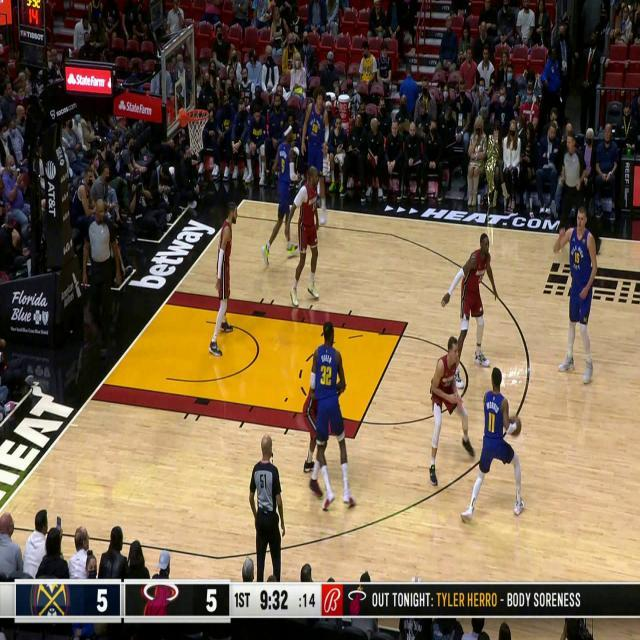rim: (509, 414, 522, 436)
